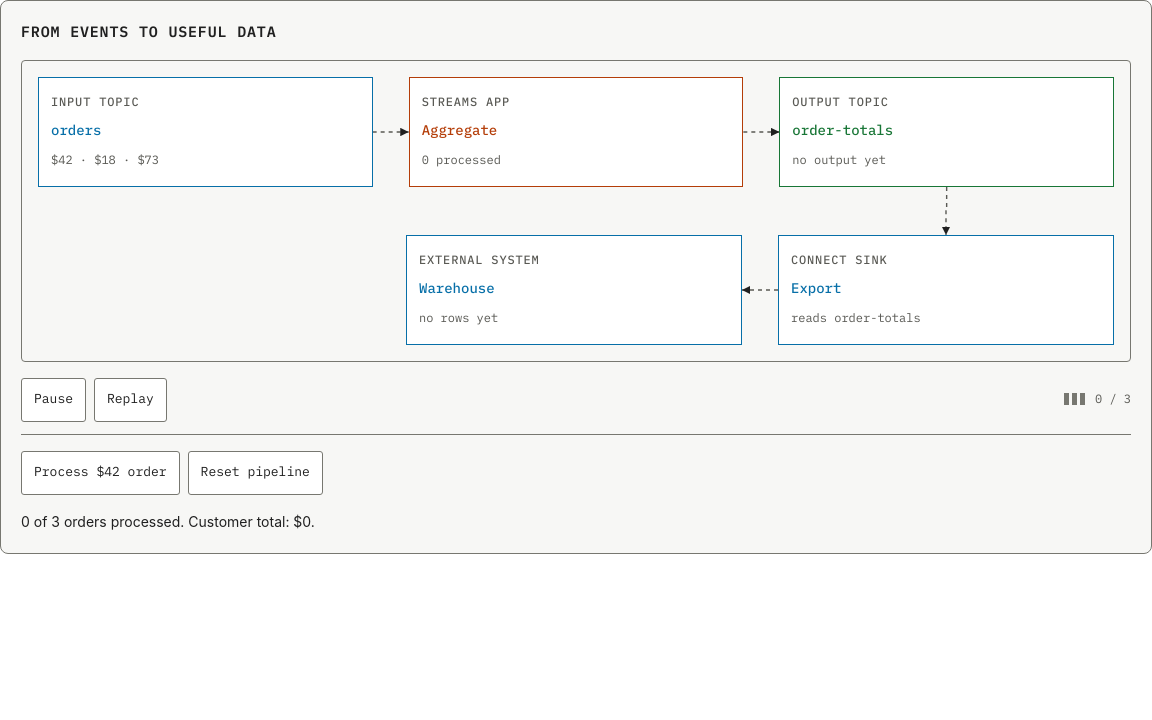
Test: produces successive totals and resets without inventing an initial output
The width and height of the screenshot is (1152, 720).
Expected: the text "no output yet" is shown, top-left (792, 152), bottom-right (886, 168)
Click the button "Process $42 order" at (100, 472), box top-left (21, 450), bottom-right (180, 494)
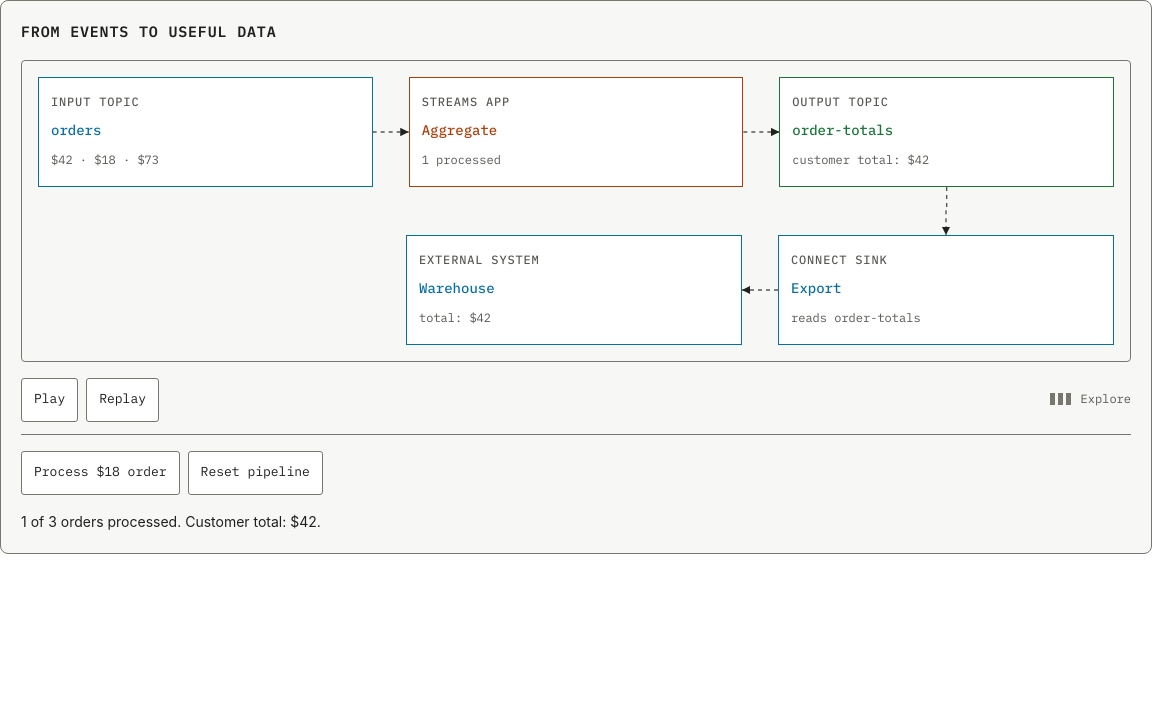
Click the button "Process $18 order" at (100, 472), box top-left (21, 450), bottom-right (180, 494)
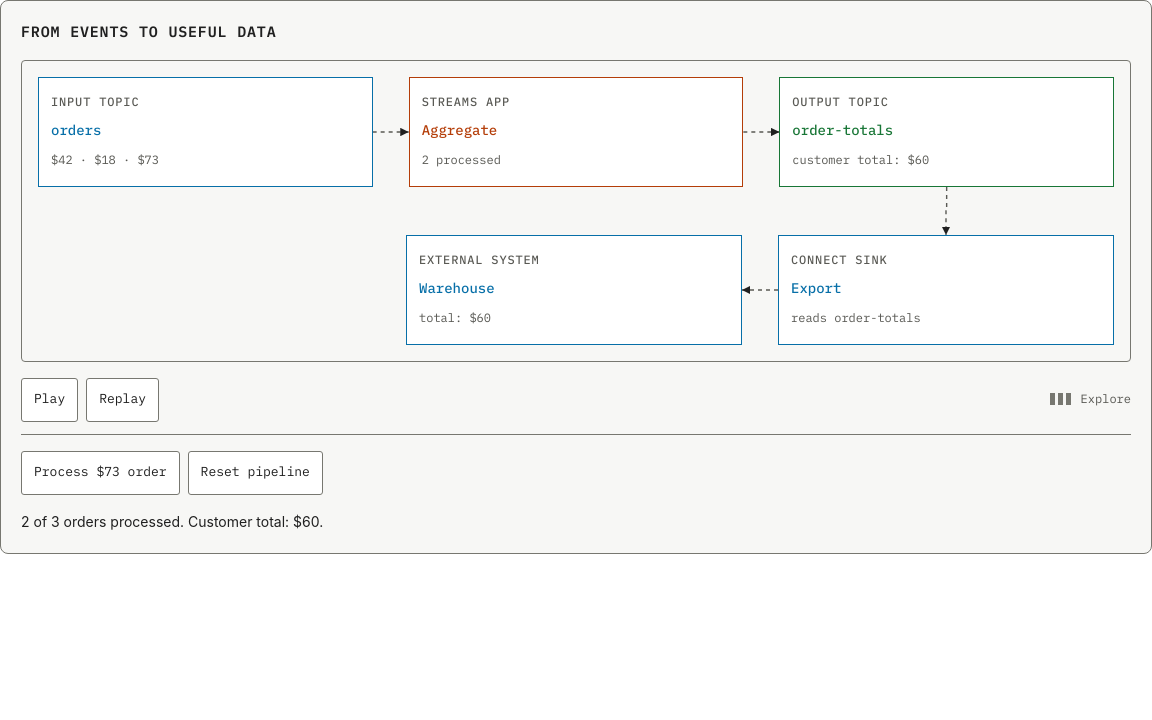
Click the button "Process $73 order" at (100, 472), box top-left (21, 450), bottom-right (180, 494)
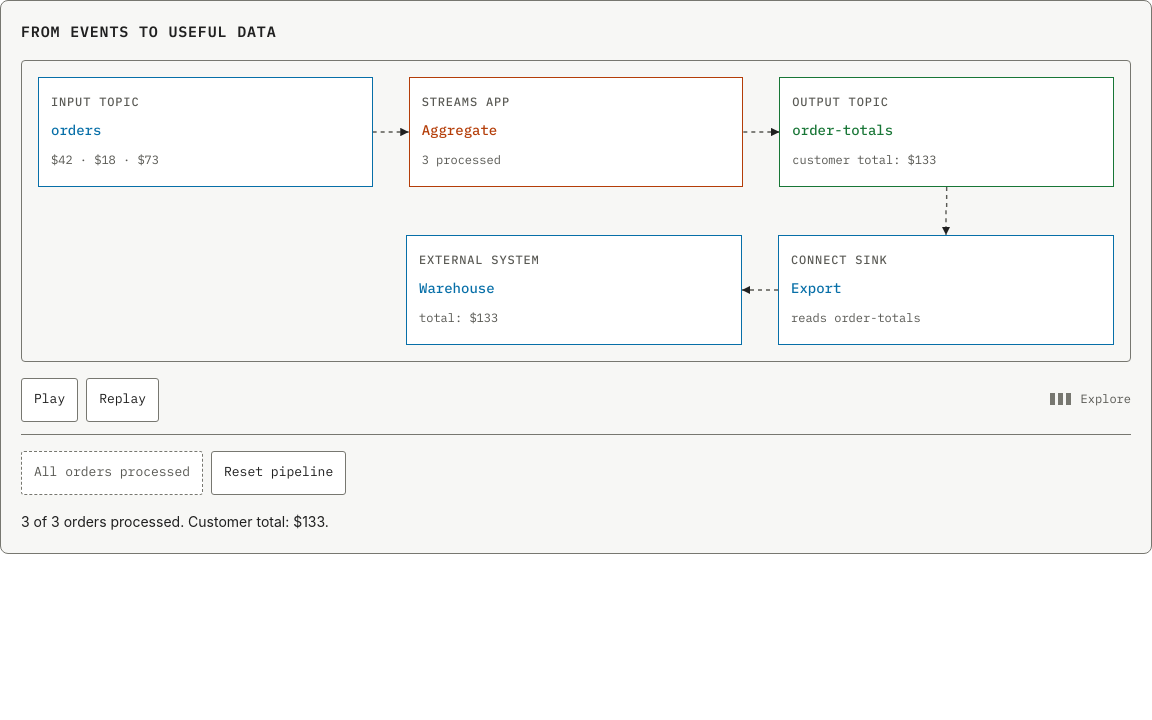
Now the text "customer total: $133" is shown, box top-left (792, 152), bottom-right (936, 168)
Now the text "total: $133" is shown, box top-left (419, 310), bottom-right (498, 326)
Now the button "All orders processed" is disabled, box top-left (21, 450), bottom-right (203, 494)
Click the button "Reset pipeline" at (279, 472), box top-left (211, 450), bottom-right (346, 494)
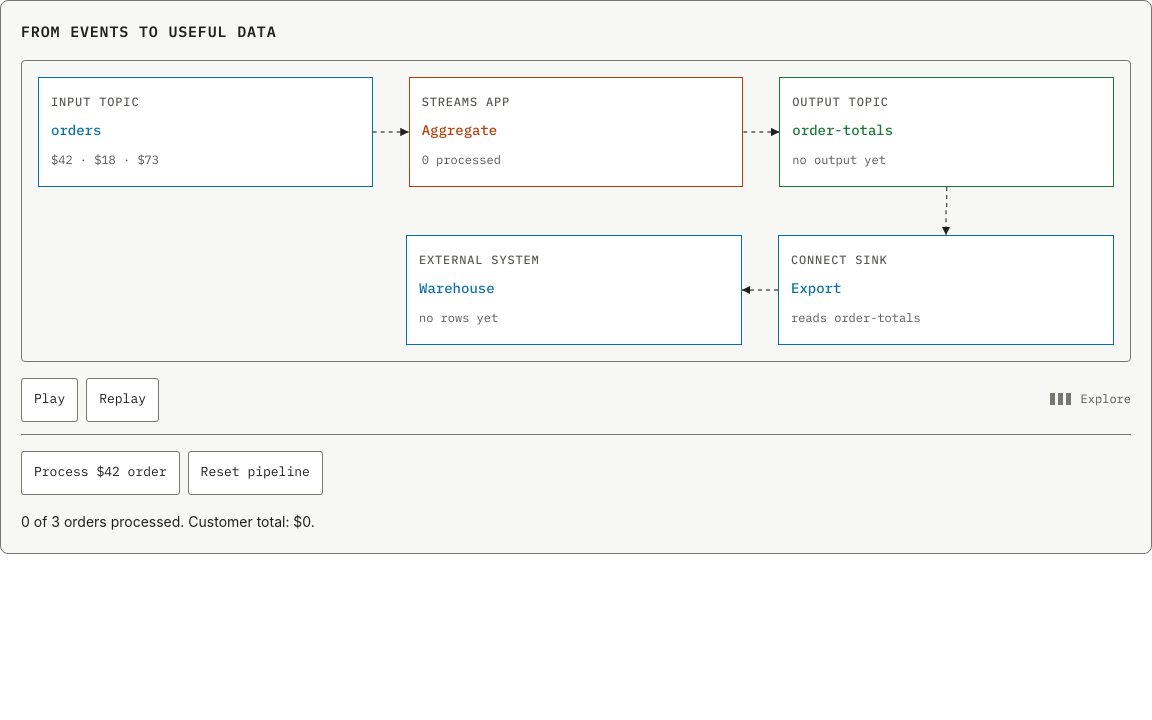
Now the text "no rows yet" is shown, box top-left (419, 310), bottom-right (498, 326)
